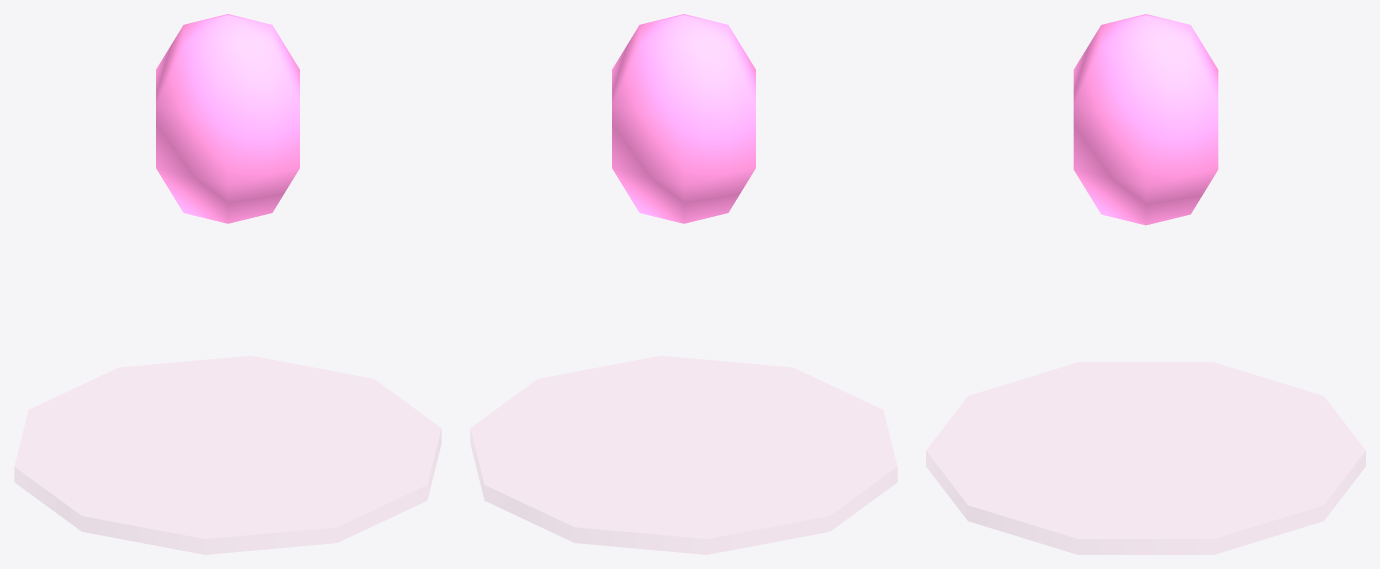
The model's file is fruit.glb.
The picture shows the model from 3 angles, left to right: view 1: azimuth 30°, elevation 25°; view 2: azimuth 150°, elevation 25°; view 3: azimuth 270°, elevation 25°; orthographic projection.
Bounding box in the file's own units: 0.9511 × 1.13 × 1.
